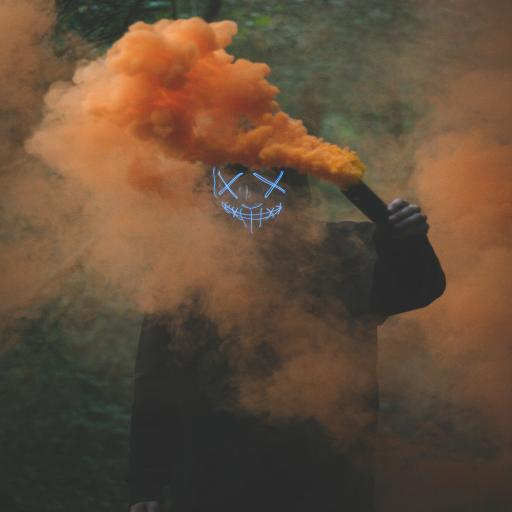smoke: (42, 9, 348, 208)
